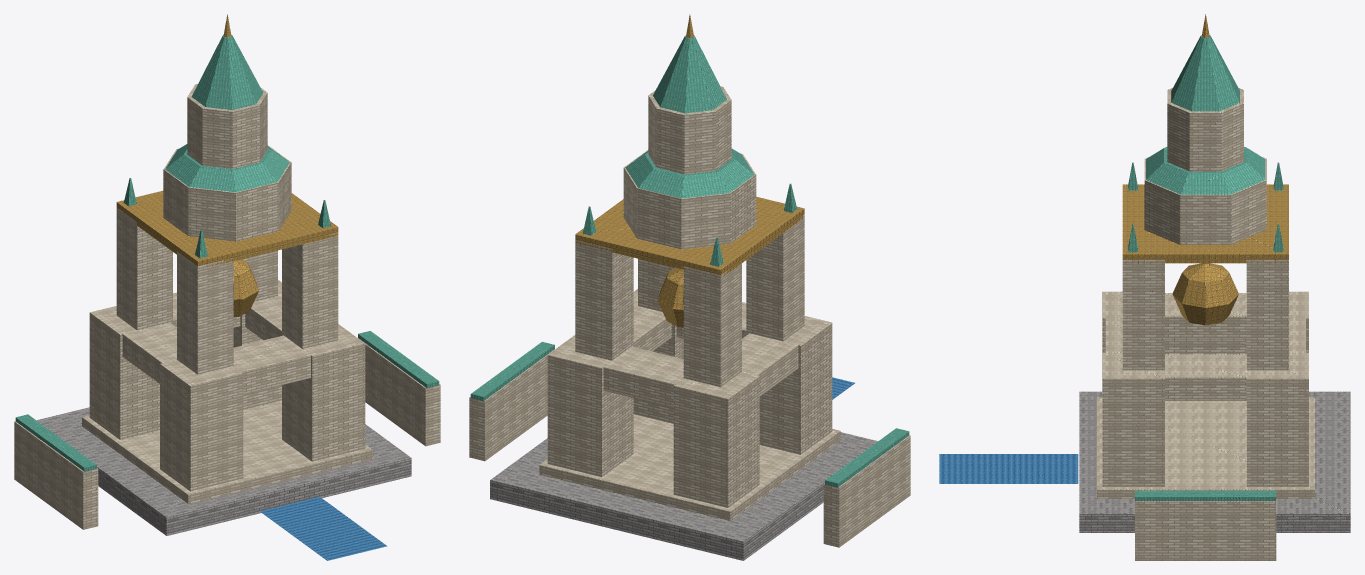
The model's file is great-meridian-monument-far.glb.
3 renders of one model, left to right at view 1: azimuth 30°, elevation 25°; view 2: azimuth 150°, elevation 25°; view 3: azimuth 270°, elevation 25°, orthographic. The views are drawn at different scales.
Visible parts, largest first — view 1: great_meridian_far; view 2: great_meridian_far; view 3: great_meridian_far.
Boxes of the visible parts, x1=… form: great_meridian_far: x1=14, y1=14, x2=440, y2=560; great_meridian_far: x1=469, y1=14, x2=910, y2=560; great_meridian_far: x1=939, y1=14, x2=1350, y2=560.
Size of the model in its own units: 88.31 by 106 by 85.9.
5 materials, 5 textured.
